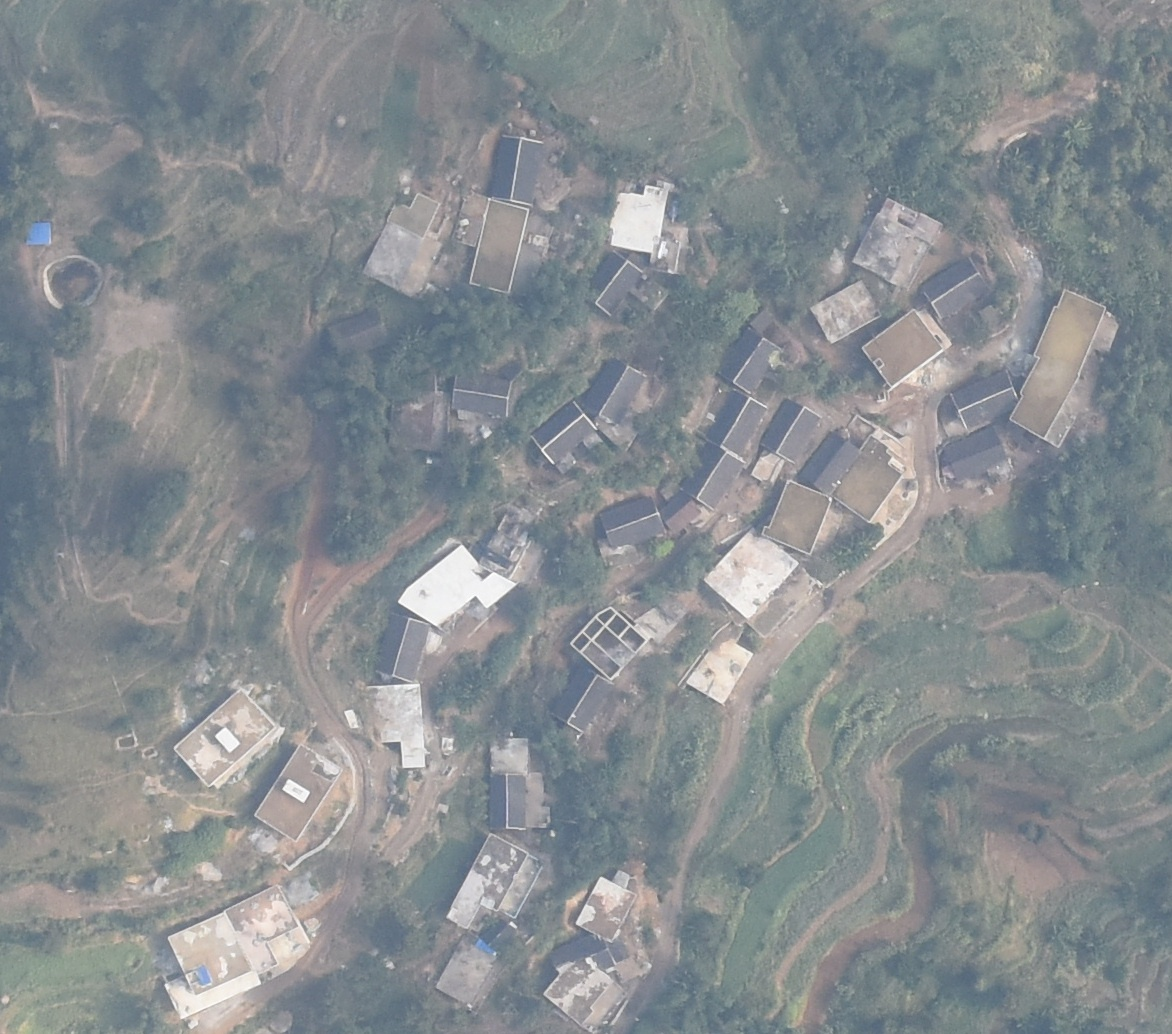building: (156, 884, 311, 1018), (1013, 287, 1122, 447), (171, 687, 281, 788), (398, 545, 518, 628), (446, 834, 544, 933), (704, 530, 799, 622), (362, 194, 444, 300), (852, 199, 945, 291), (256, 745, 343, 843), (448, 193, 529, 295), (864, 311, 950, 389), (836, 434, 908, 524), (433, 930, 508, 1008), (568, 607, 647, 681), (544, 960, 625, 1031), (363, 682, 426, 770), (762, 480, 831, 556), (715, 326, 785, 397), (808, 278, 881, 346), (389, 372, 450, 452), (679, 442, 748, 511), (579, 356, 647, 425), (608, 178, 669, 252), (759, 398, 826, 465), (529, 399, 596, 465), (686, 638, 753, 704), (489, 132, 544, 210), (573, 874, 637, 941), (552, 664, 613, 734), (705, 389, 767, 456), (921, 257, 988, 319), (950, 371, 1018, 430), (941, 430, 1012, 484), (598, 495, 665, 551), (587, 251, 643, 317), (800, 432, 859, 492), (378, 614, 430, 682), (450, 368, 514, 415), (551, 934, 617, 976), (327, 309, 388, 354), (489, 773, 528, 830), (651, 225, 693, 277), (660, 493, 701, 533), (489, 737, 529, 772), (751, 449, 784, 484)
prefabricated-house: (23, 221, 53, 245)
